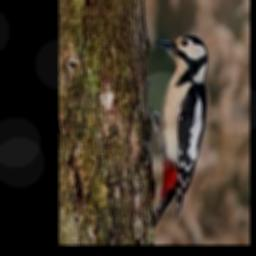Woodpecker: (137, 34, 207, 227)
